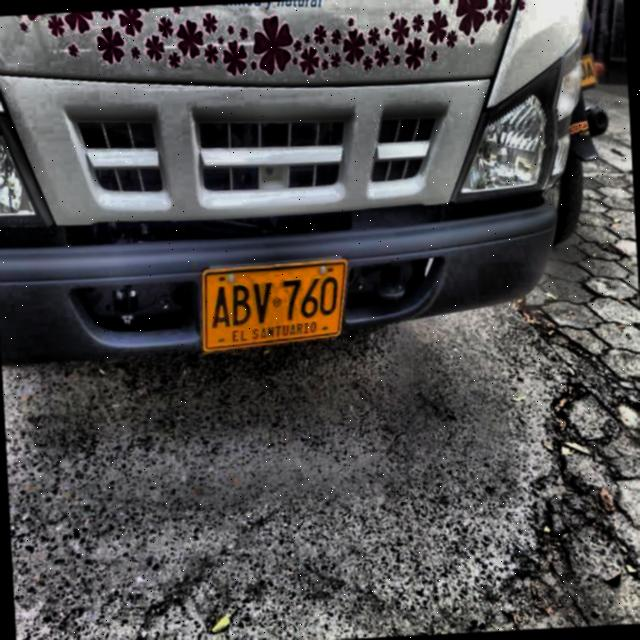plate: (204, 261, 346, 349)
